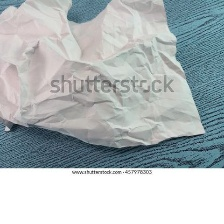book: (0, 0, 209, 150)
